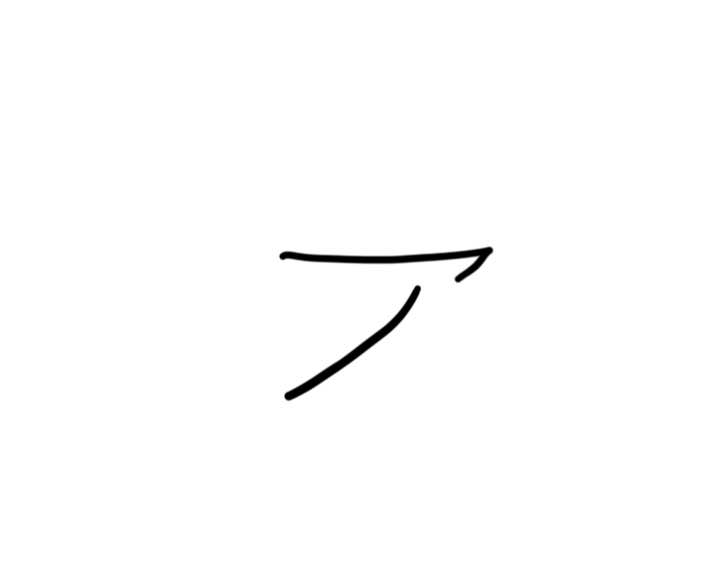a: (252, 239, 504, 416)
